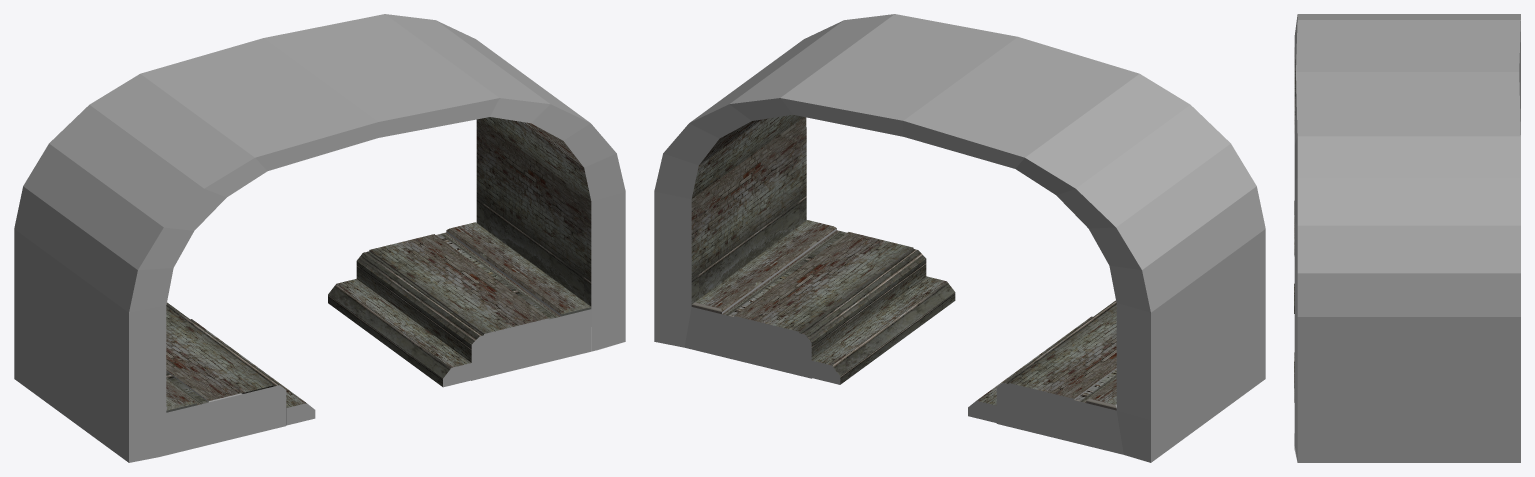
Rendered from SewerStraight.fbx.
3 renders of one model, left to right at view 1: azimuth 30°, elevation 25°; view 2: azimuth 150°, elevation 25°; view 3: azimuth 270°, elevation 25°, orthographic. The views are drawn at different scales.
Parts seen in each view (by area): view 1: polySurface19; view 2: polySurface19; view 3: polySurface19.
Boxes of the visible parts, x1,y1,x2,y2 form: polySurface19: (14, 14, 625, 462); polySurface19: (654, 14, 1265, 462); polySurface19: (1294, 14, 1520, 462).
Bounding box in the file's own units: 41.15 × 22.24 × 16.72.
Materials: 2 (1 with a texture image).
